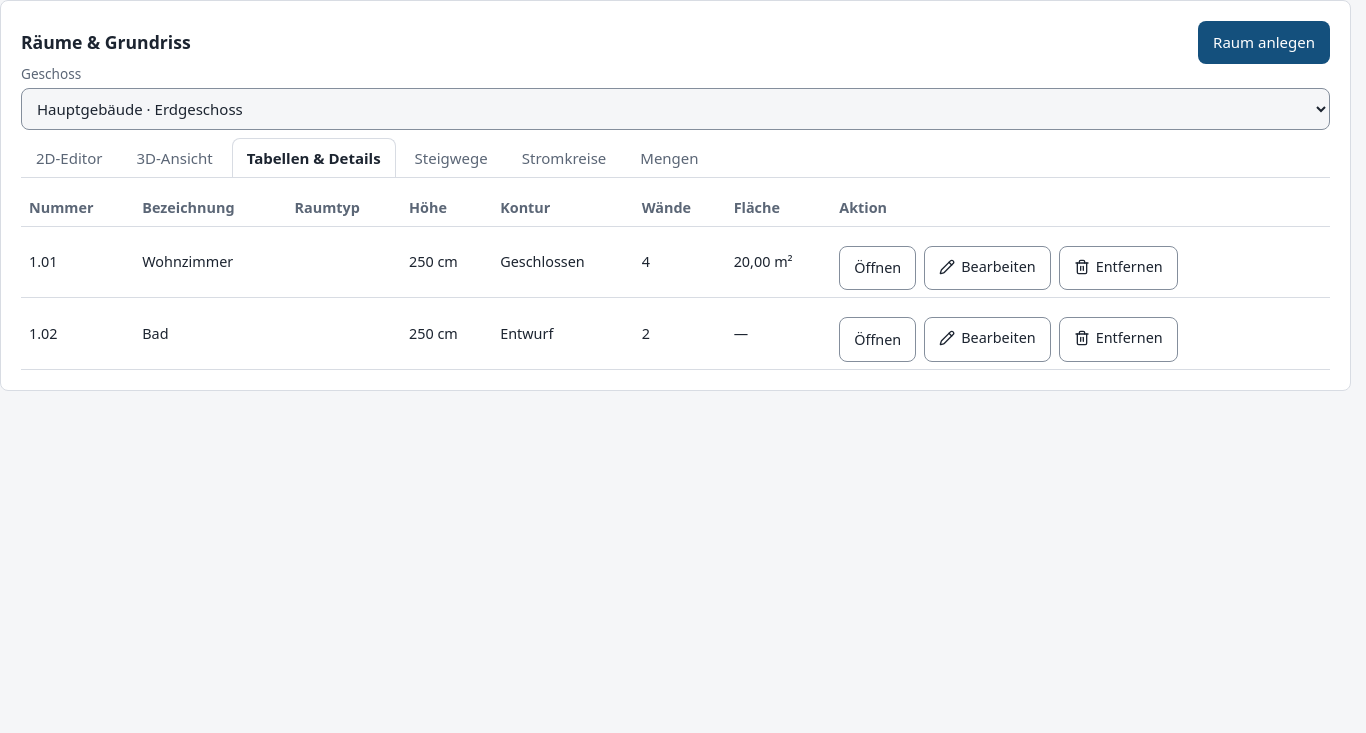
Scenario: Raum öffnen › nennt die Geometriefehler des Servers im Klartext
Expected: the text "Wohnzimmer" is shown, [134,226,287,298]
Click the button with aria-label "Raum Wohnzimmer öffnen".
click(878, 268)  # box [839,246,916,290]
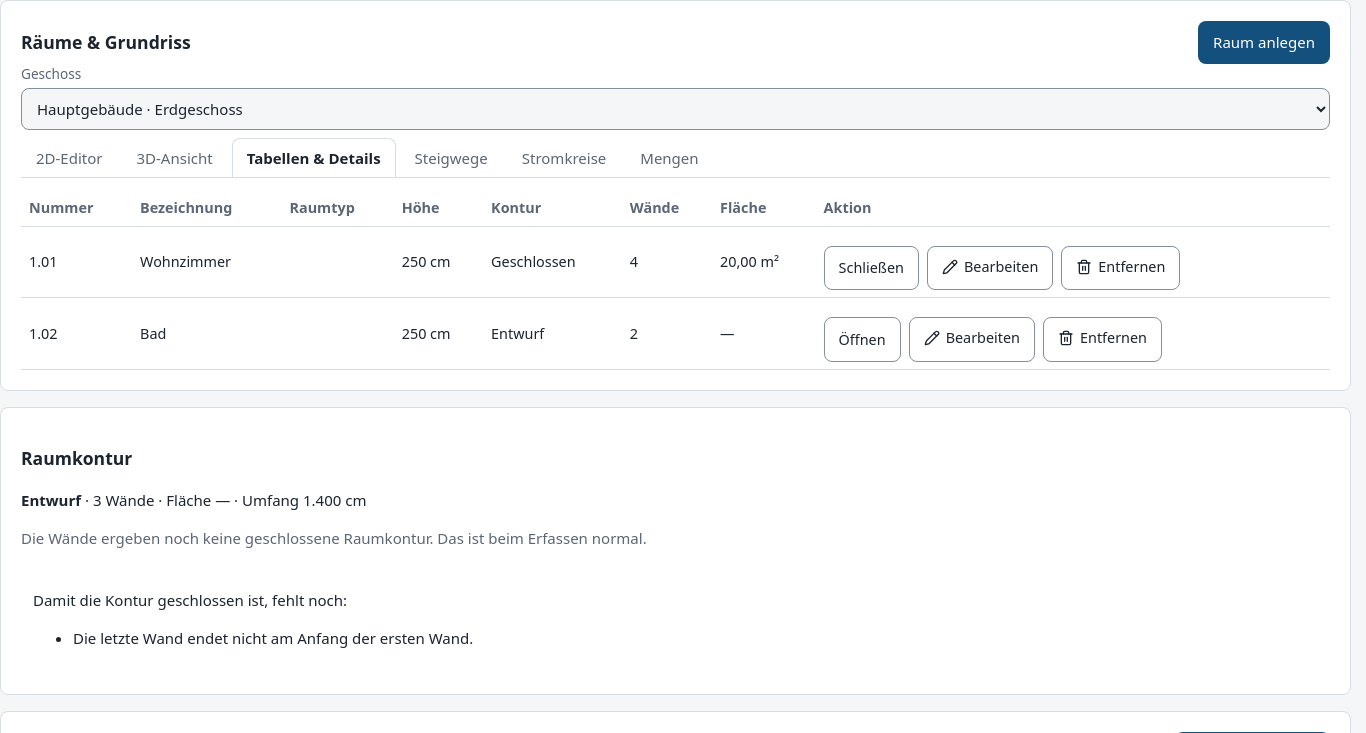
Expected: the text "Entwurf" is shown, [483,298,622,369]
Result: the list item "Die letzte Wand endet nicht am Anfang der ersten Wand." is shown at [73,628,473,648]
